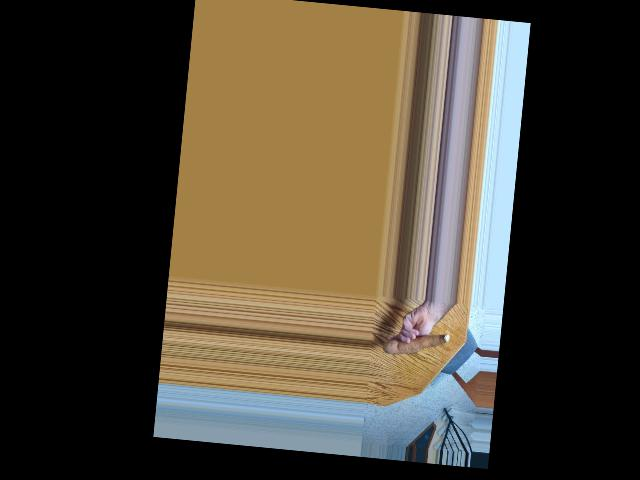sweet_potato: (384, 326, 451, 363)
